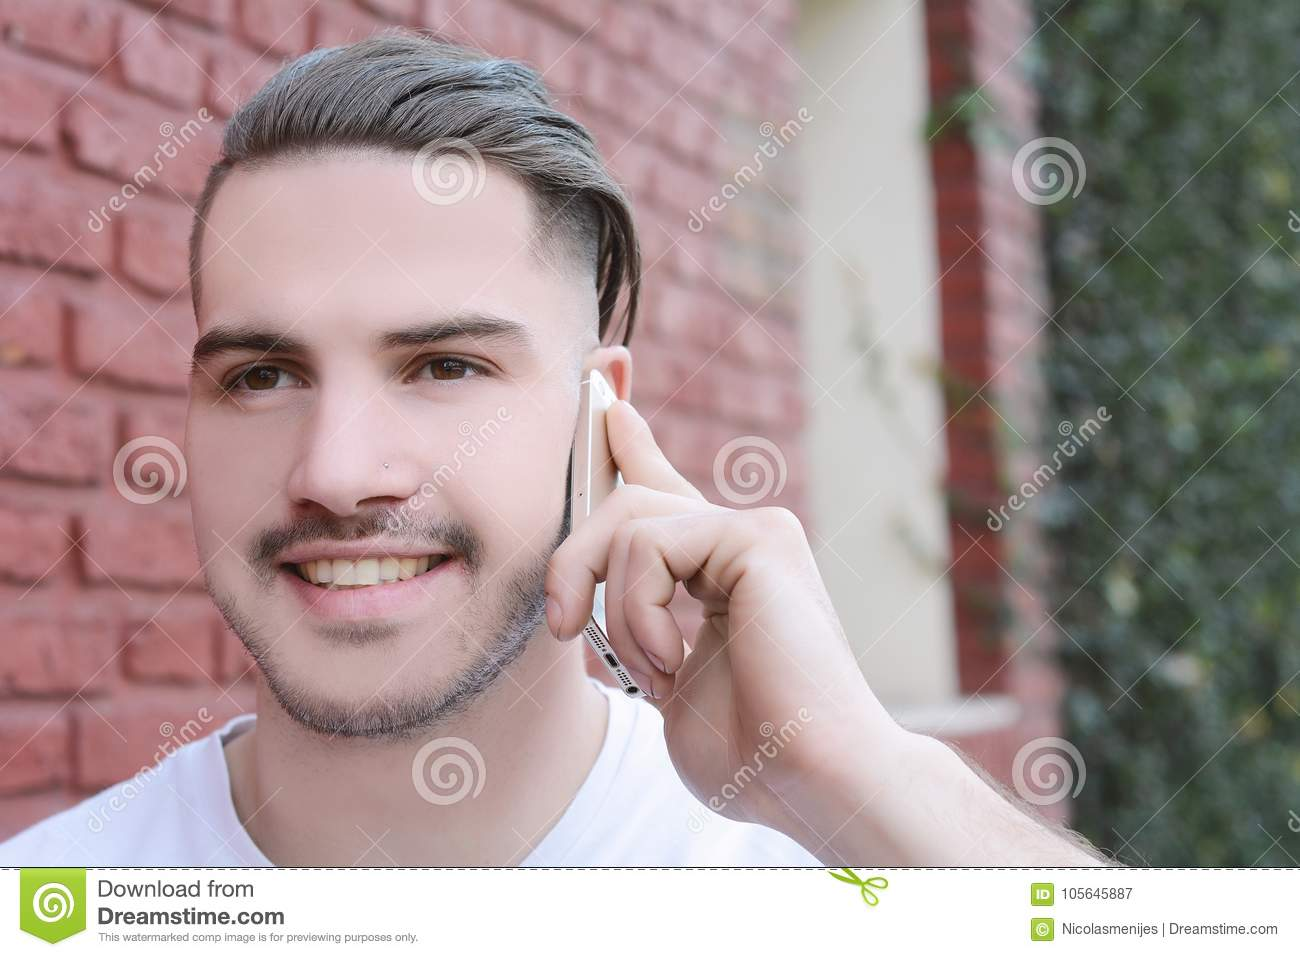phone: (569, 364, 676, 722)
talk: (184, 295, 872, 825)
